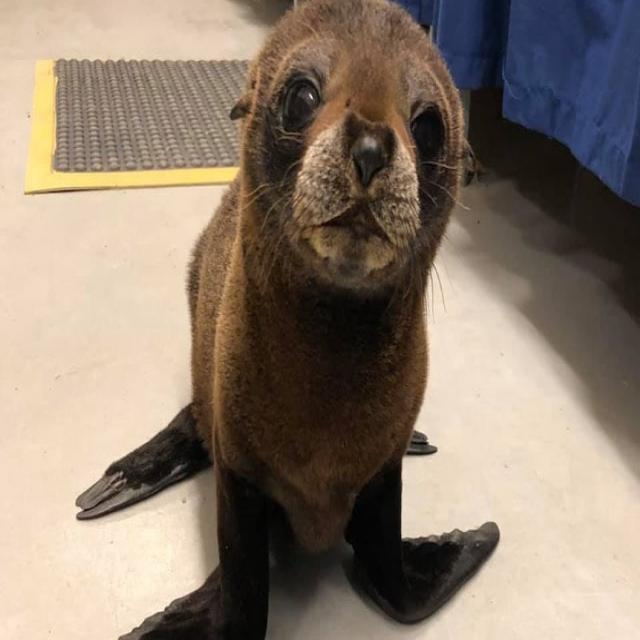seal: (76, 0, 498, 639)
